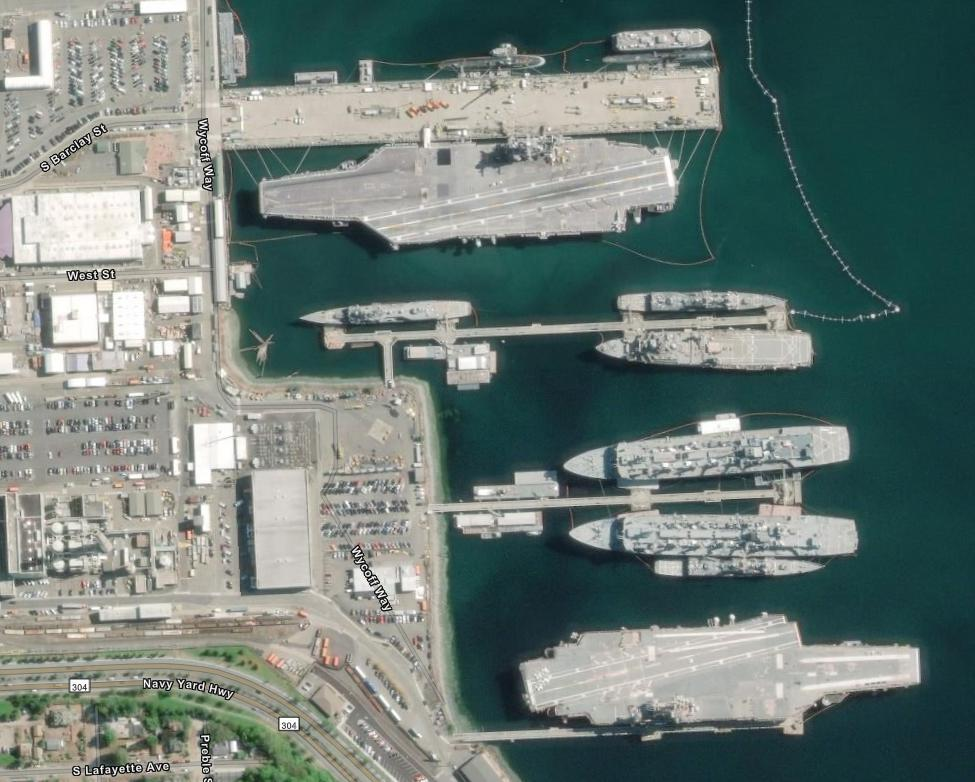carrier: (511, 605, 930, 747), (248, 127, 701, 256)
destroyer: (296, 288, 482, 331), (614, 279, 792, 314)
submarine: (440, 41, 551, 79)
tender: (560, 416, 865, 486), (565, 513, 891, 553)
